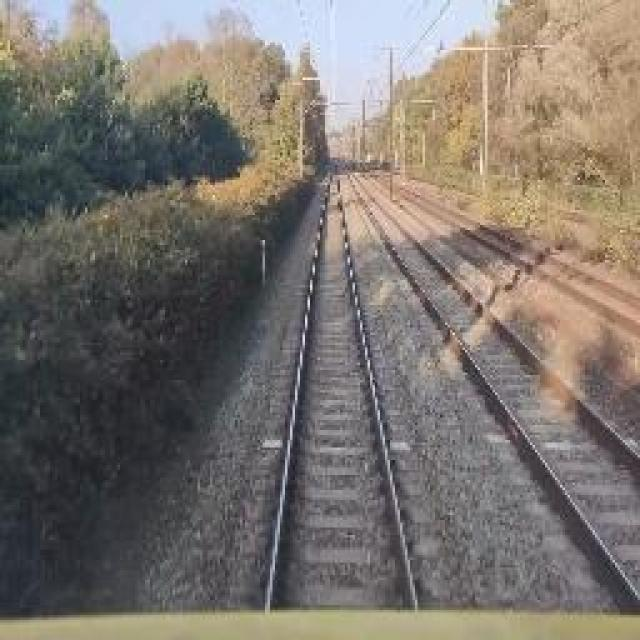rail: (334, 155, 640, 621), (235, 155, 440, 614)
